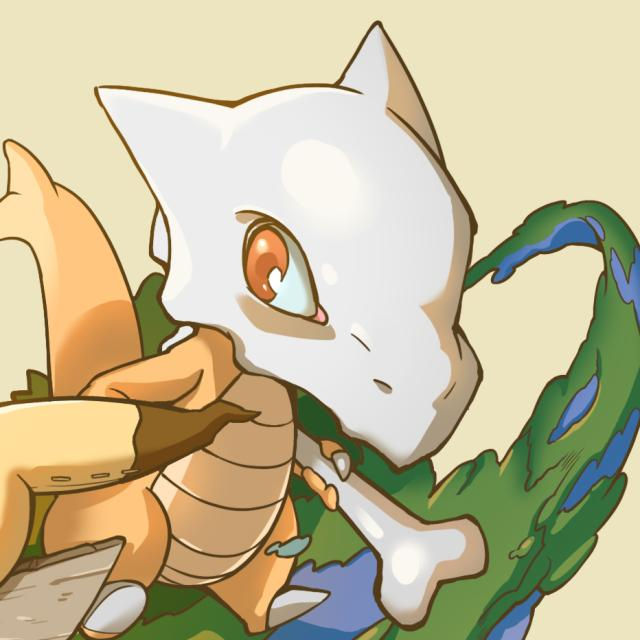Marowak: (45, 62, 482, 640)
